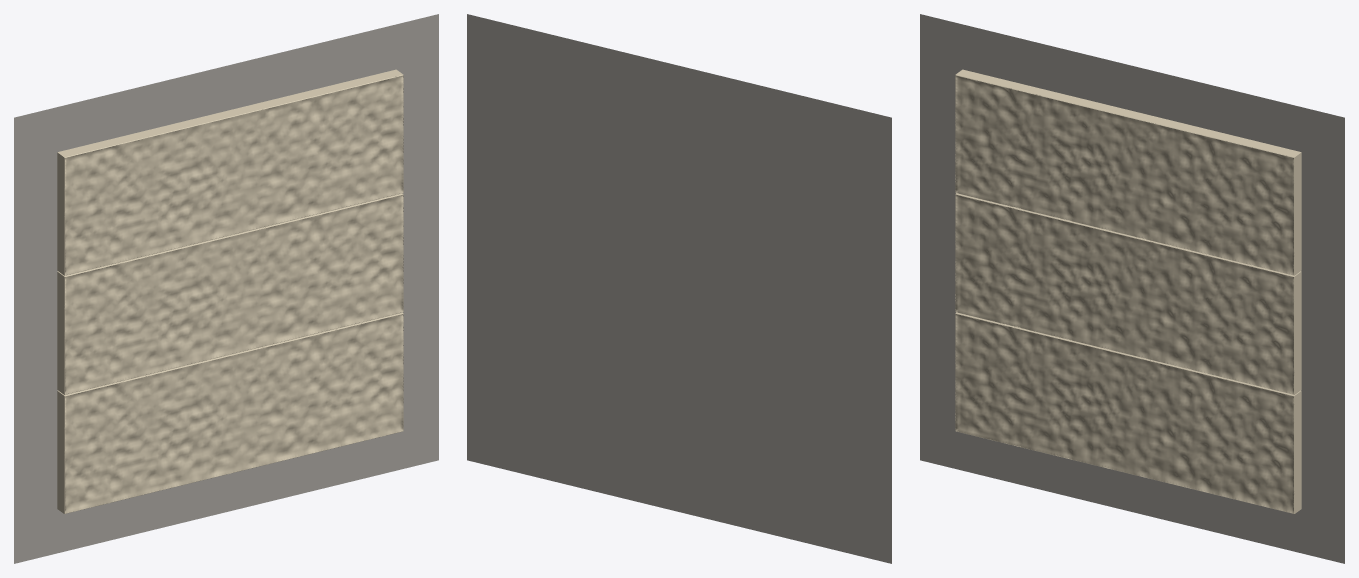
Rendered from terilgan.glb.
The picture shows the model from 3 angles, left to right: view 1: azimuth 30°, elevation 25°; view 2: azimuth 150°, elevation 25°; view 3: azimuth 330°, elevation 25°; orthographic projection.
Visible parts, largest first — view 1: Plane, t2_0, t1_0, t0_0; view 2: Plane; view 3: Plane, t2_0, t1_0, t0_0.
Boxes of the visible parts, <box> form: Plane: <box>14,14,438,563</box>; t2_0: <box>57,69,403,275</box>; t1_0: <box>57,193,403,394</box>; t0_0: <box>57,312,403,513</box>; Plane: <box>467,14,891,563</box>; Plane: <box>920,14,1344,563</box>; t2_0: <box>955,69,1301,275</box>; t1_0: <box>955,193,1301,394</box>; t0_0: <box>955,312,1301,513</box>.
Bounding box in the file's own units: 1.5 × 1.51 × 0.047.
